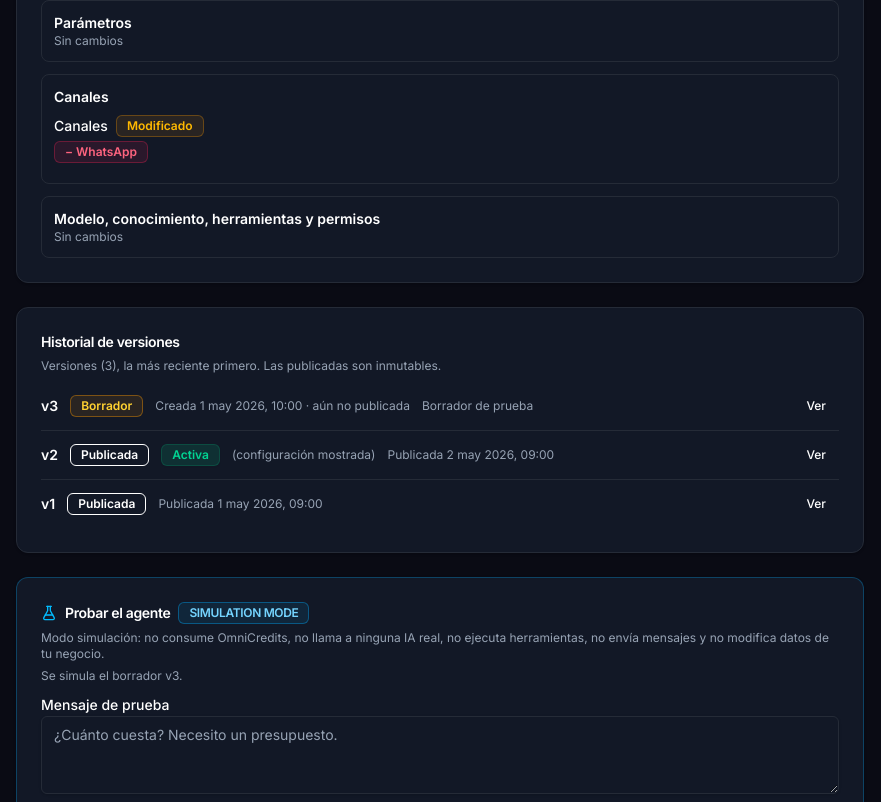
Comparación en pantalla › muestra los cambios reales por sección (modificado, lista añadida, canal eliminado) y «Sin cambios» en el resto
(page scrolled)
What coordinates should you click on to do the following:
click the button "Ver" in the row of "Borrador de prueba"
I would click on:
 (816, 406)
Its box is 793,390 -> 839,422.
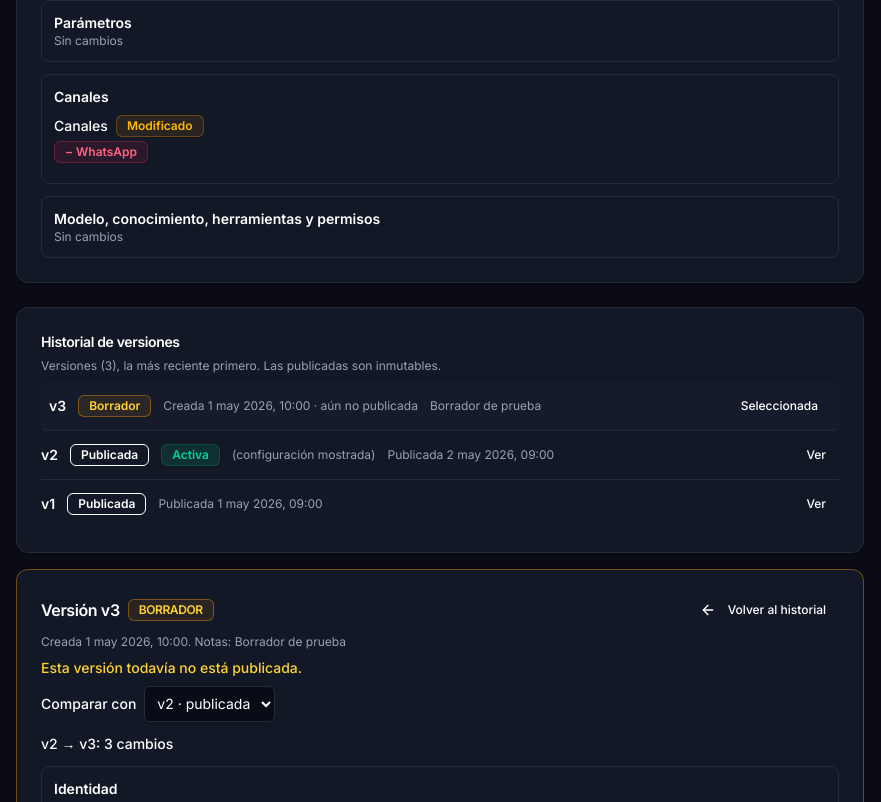
Expected: the text with test id "diff-summary" shows "3 cambios", 104,734 -> 173,752
